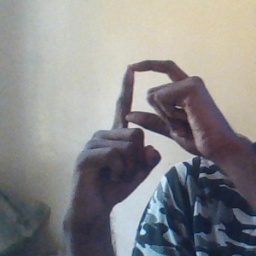D: (99, 53, 201, 149)
